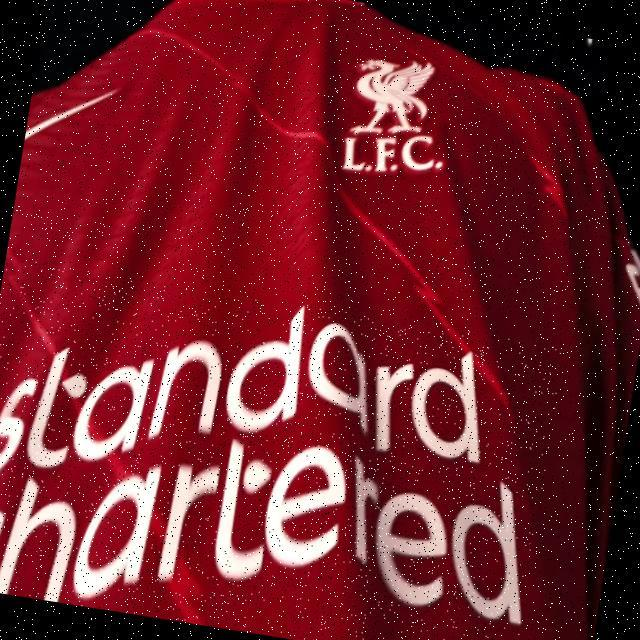Standard Chartered: (0, 257, 565, 640)
